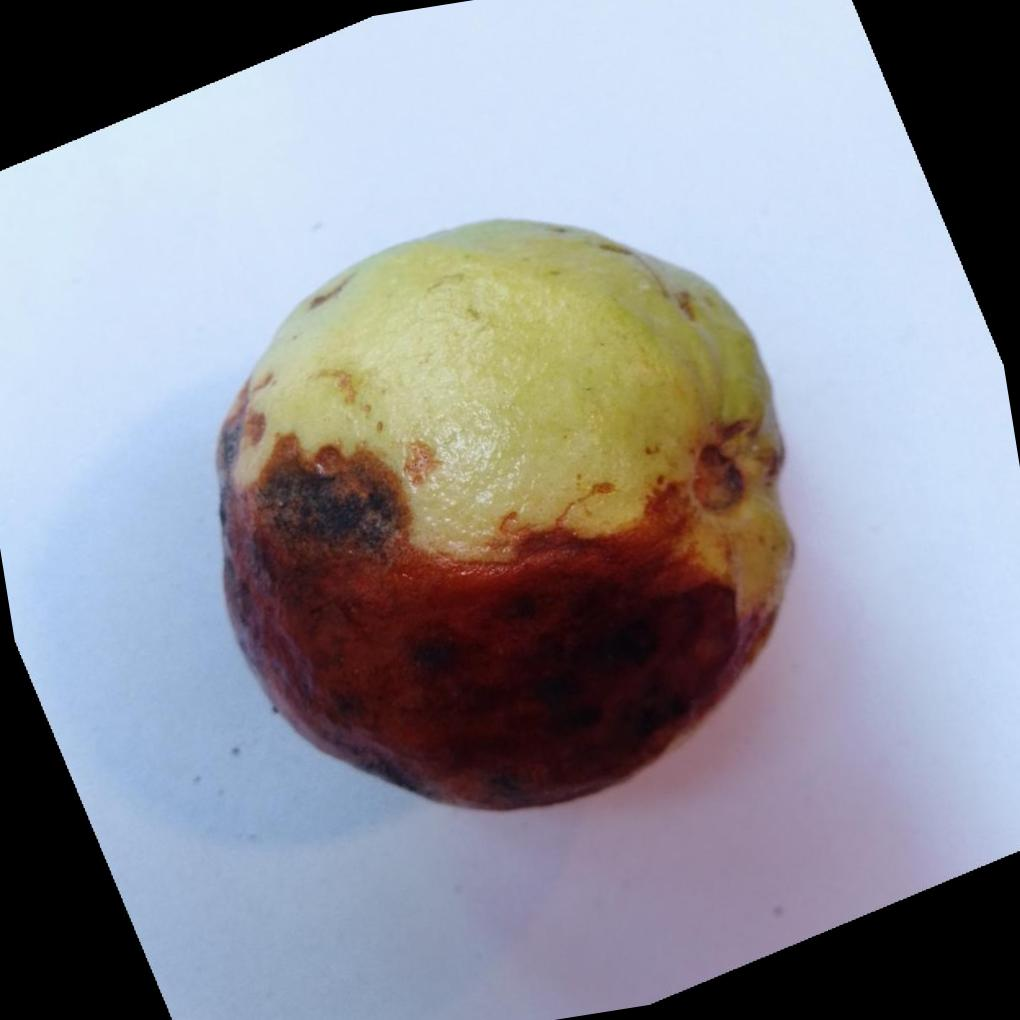FreshOrange: (215, 220, 797, 816)
